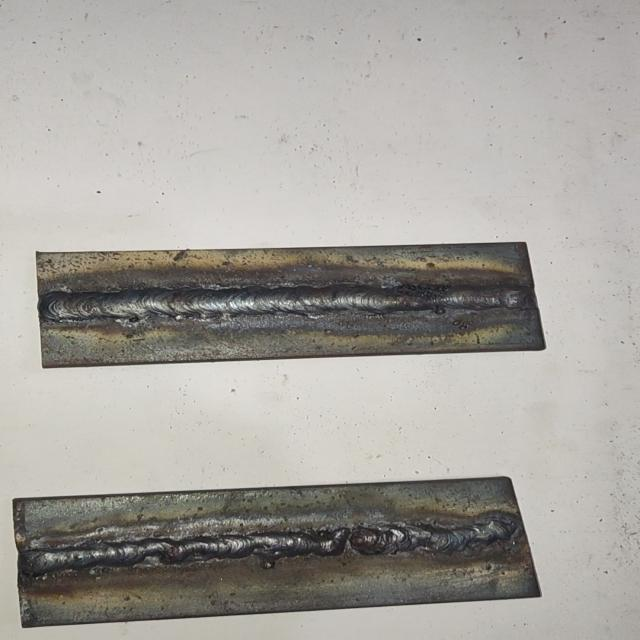Bad Weld: (20, 519, 517, 580)
Defect: (310, 516, 392, 566)
Good Weld: (44, 283, 535, 320)
